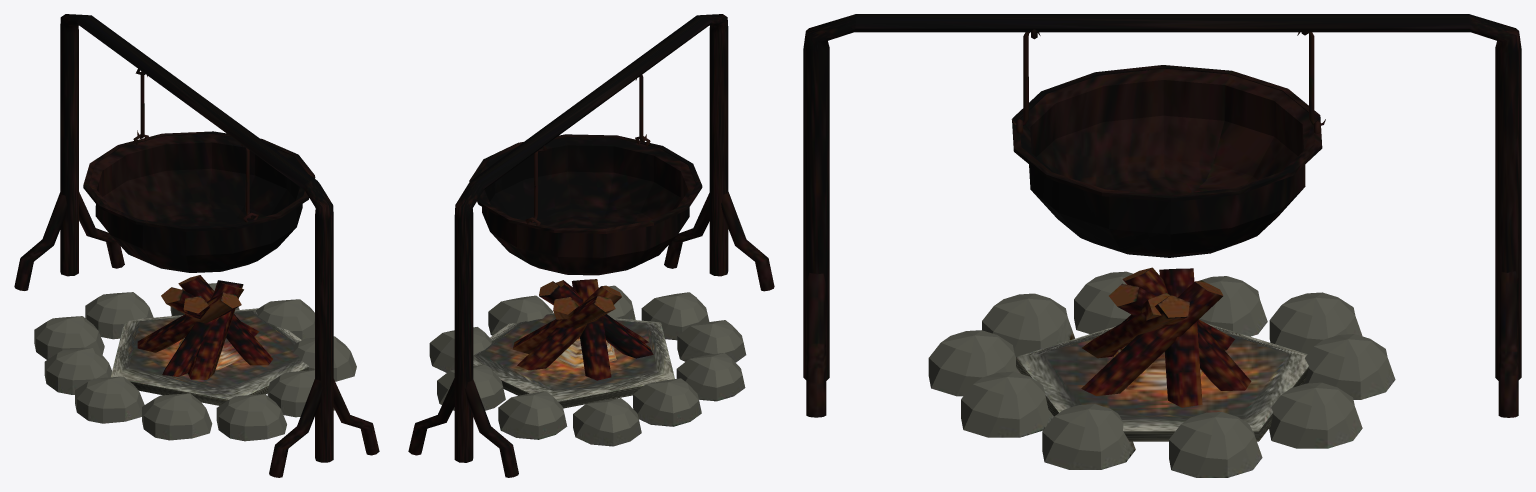
File: Campfire.FBX
The picture shows the model from 3 angles, left to right: view 1: azimuth 30°, elevation 25°; view 2: azimuth 150°, elevation 25°; view 3: azimuth 270°, elevation 25°; orthographic projection. The views are drawn at different scales.
Visible parts, largest first — view 1: Cylinder011; view 2: Cylinder011; view 3: Cylinder011.
Part boxes in pixels (x1=…): Cylinder011: x1=14, y1=14, x2=379, y2=477; Cylinder011: x1=408, y1=14, x2=774, y2=477; Cylinder011: x1=803, y1=14, x2=1521, y2=477.
Size of the model in its own units: 174 by 172 by 297.
